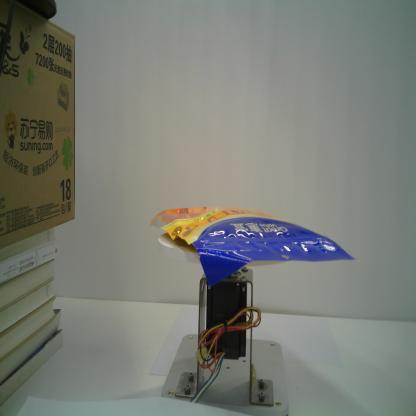Dried Fruit: (148, 205, 358, 288)
